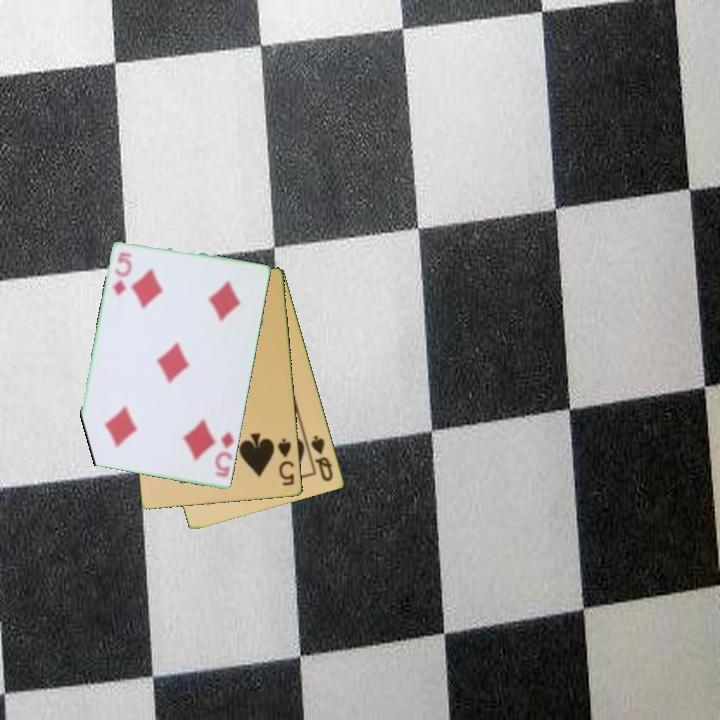5d: (211, 428, 237, 480), (109, 249, 135, 300)
5s: (275, 435, 297, 489)
Qs: (308, 432, 336, 485)
